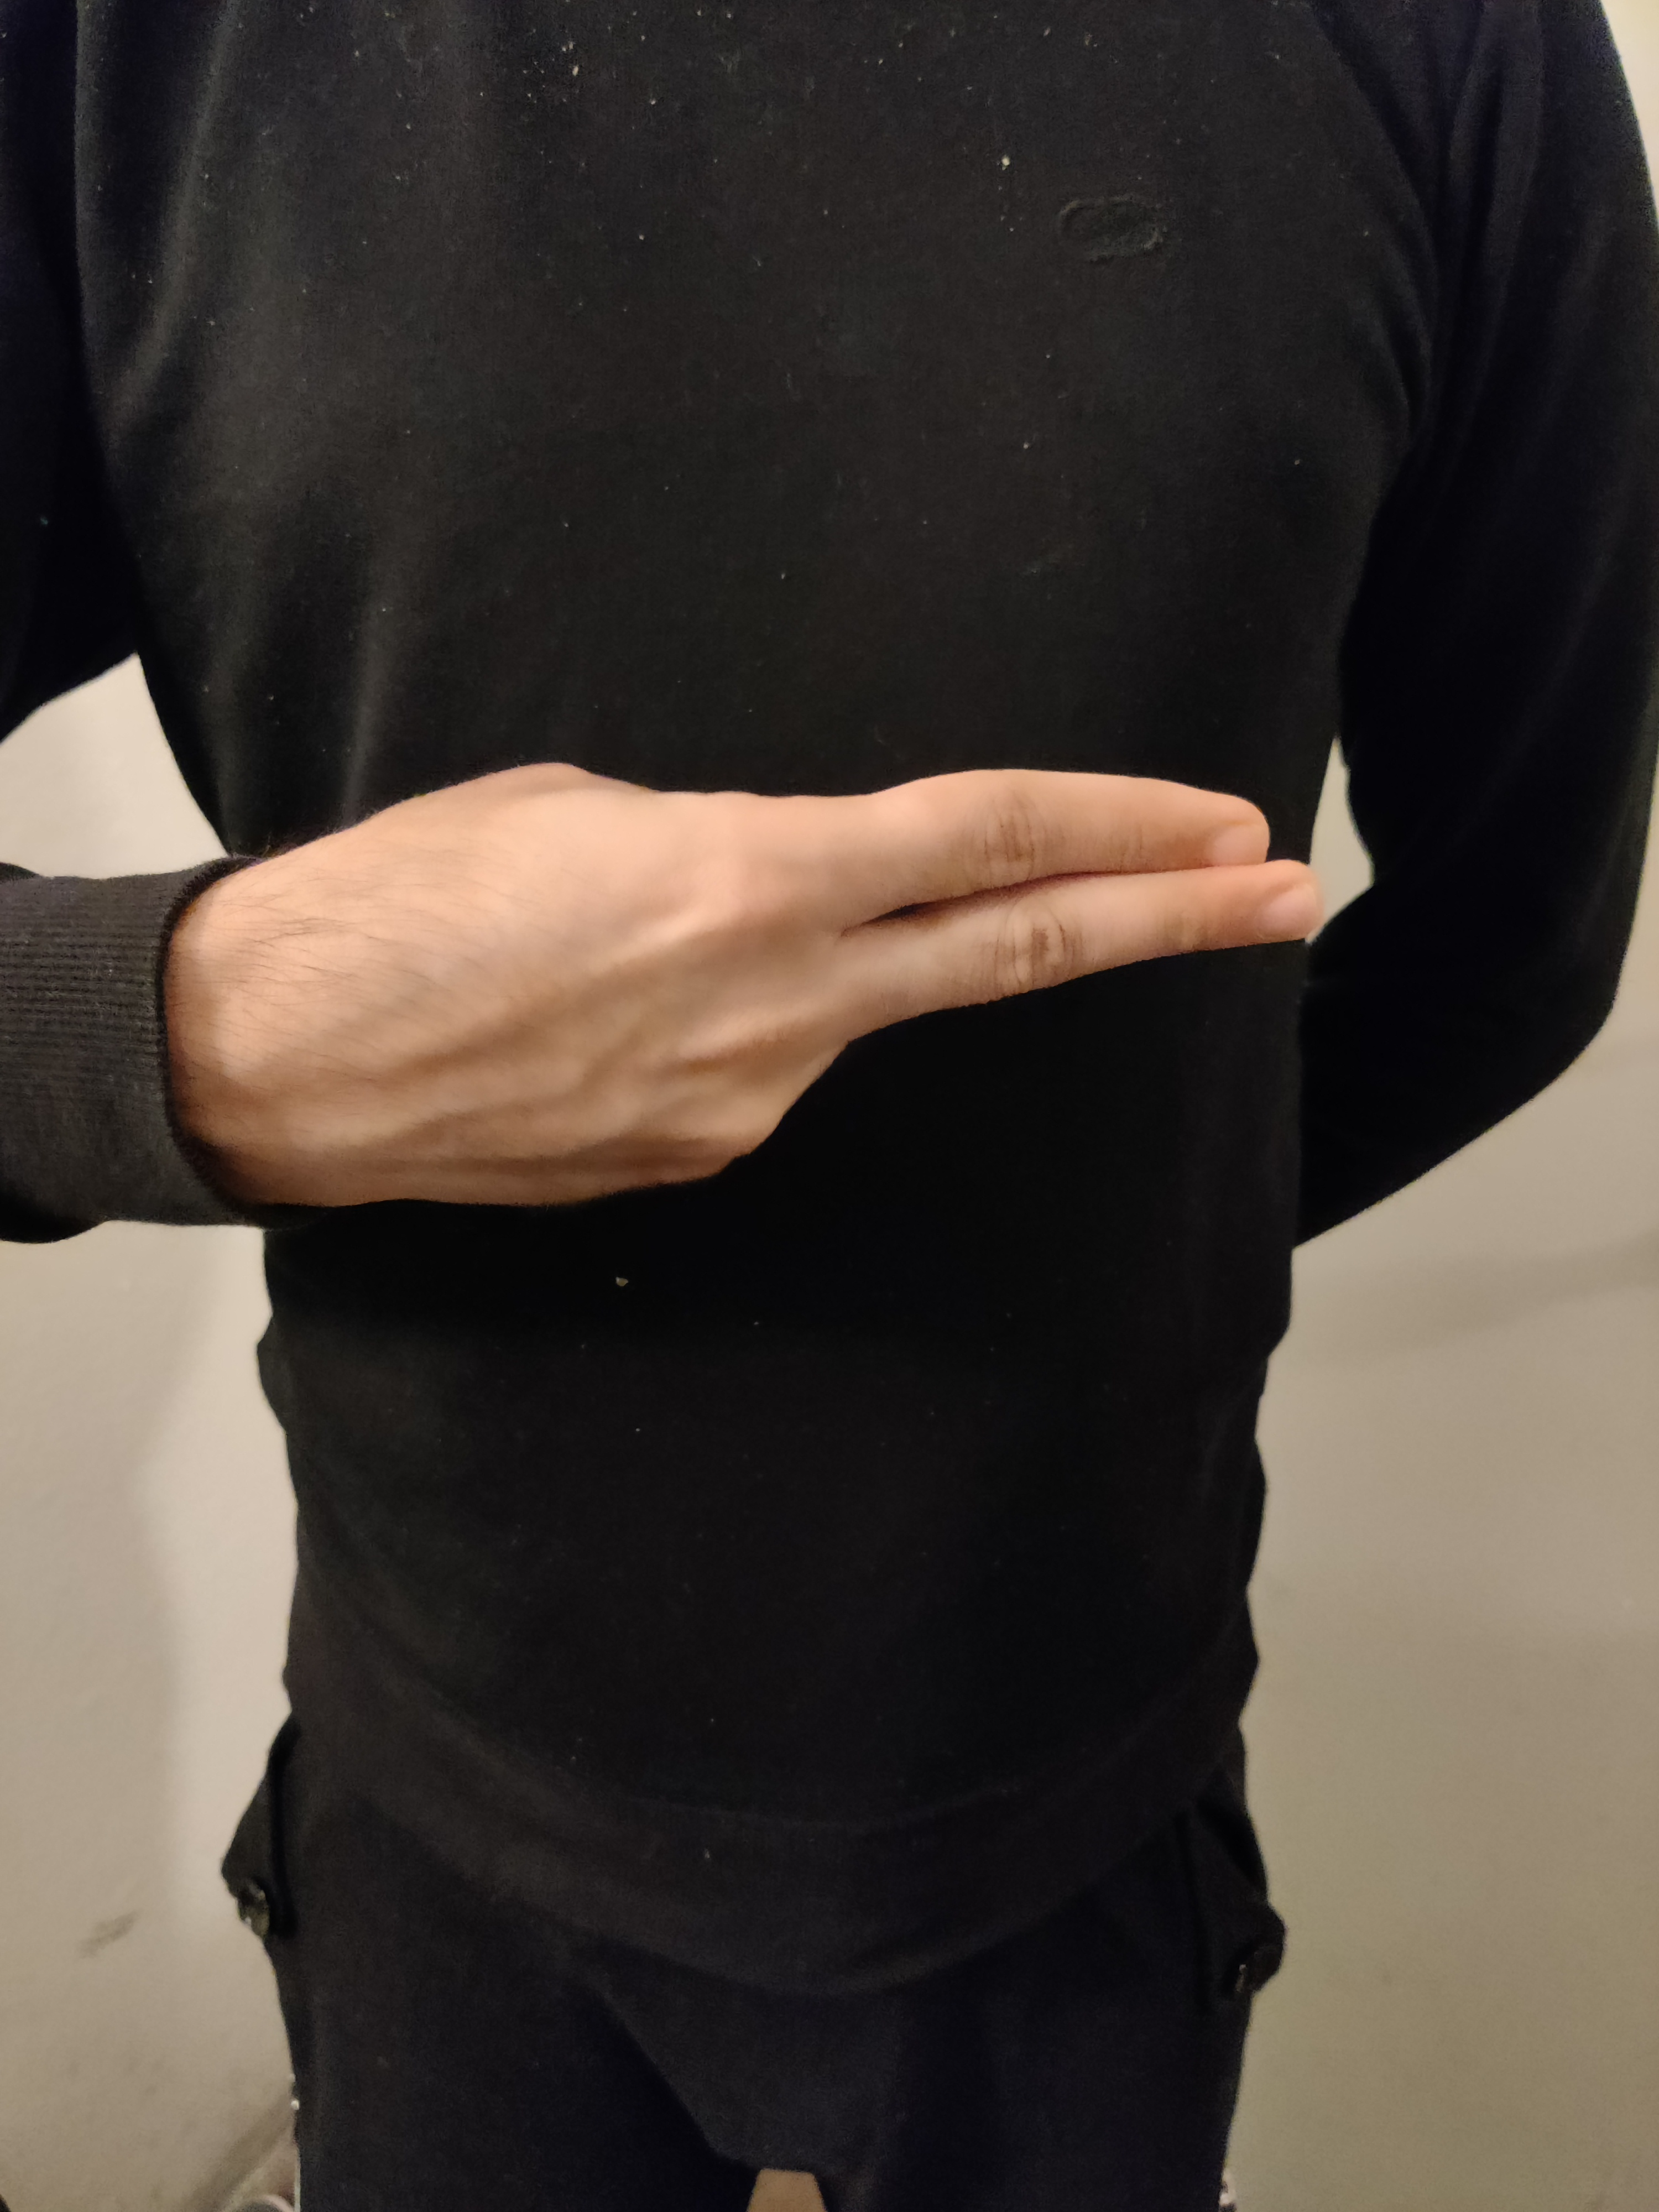left: (37, 536, 1474, 1287)
